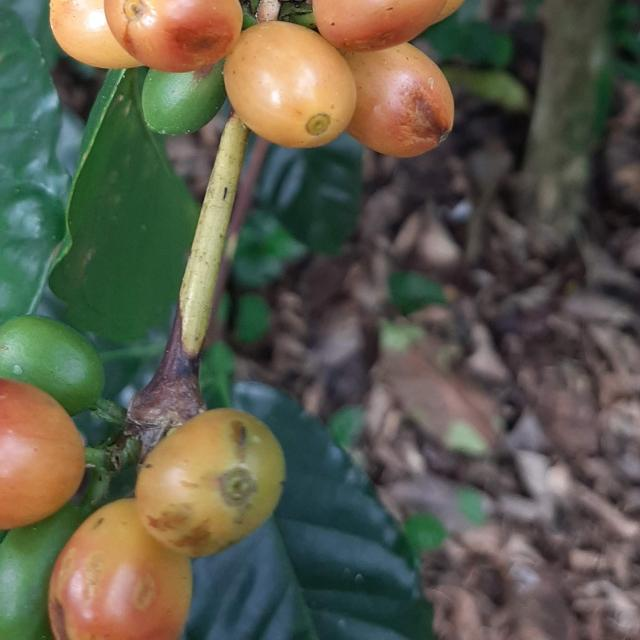green: (0, 505, 92, 640), (0, 316, 104, 416), (141, 59, 226, 135)
red: (223, 20, 357, 147), (0, 378, 84, 531), (49, 0, 140, 68)
yellow: (135, 409, 285, 558), (47, 500, 191, 640), (342, 42, 455, 157), (104, 0, 242, 72), (313, 0, 447, 50), (432, 0, 466, 23)
